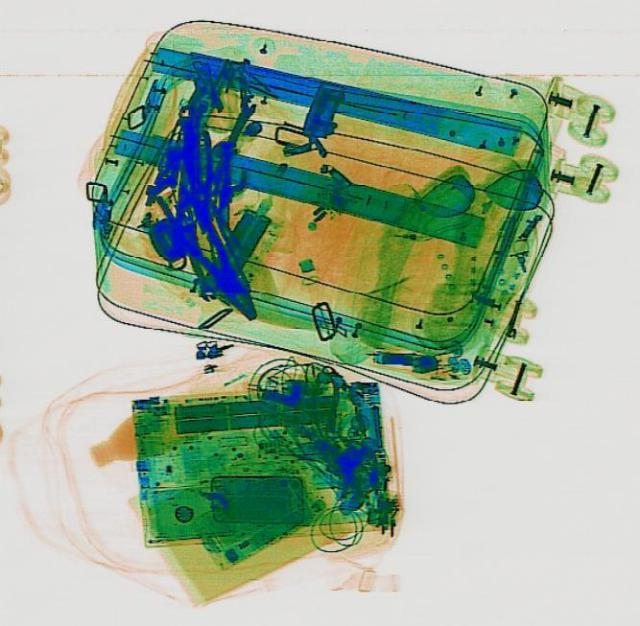Pliers: (152, 177, 272, 327)
